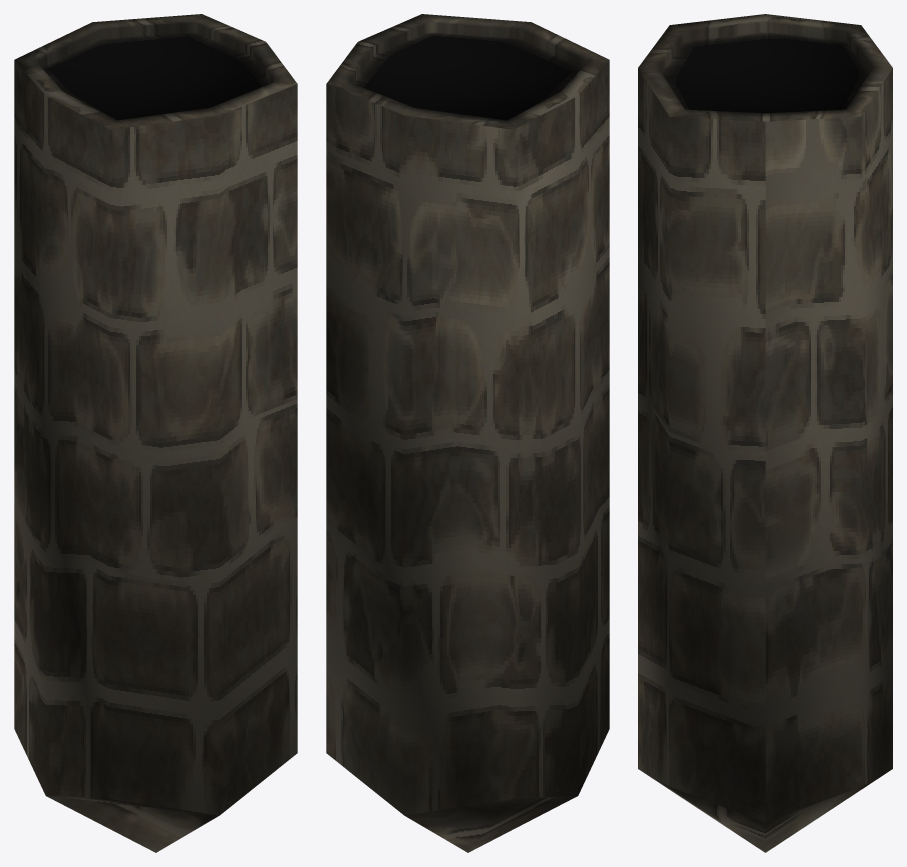
Rendered from chimny.glb.
The picture shows the model from 3 angles, left to right: view 1: azimuth 30°, elevation 25°; view 2: azimuth 150°, elevation 25°; view 3: azimuth 270°, elevation 25°; orthographic projection.
Visible parts, largest first — view 1: Chimny; view 2: Chimny; view 3: Chimny.
Part boxes in pixels (box(x1,y1,x2,y2)): Chimny: box(14, 14, 297, 852); Chimny: box(326, 14, 609, 852); Chimny: box(638, 14, 892, 852).
Bounding box in the file's own units: 0.4122 × 1.4 × 0.4122.
Materials: 1 (1 with a texture image).
